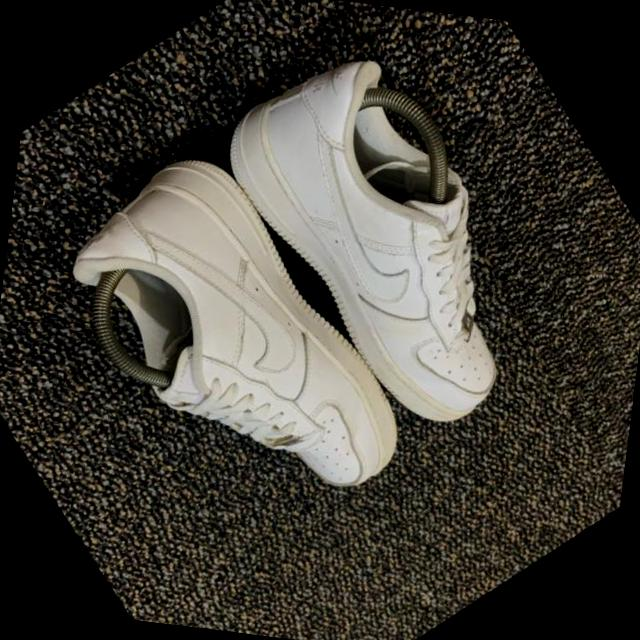nike_fake_airforce: (15, 113, 457, 574), (171, 12, 608, 470)
